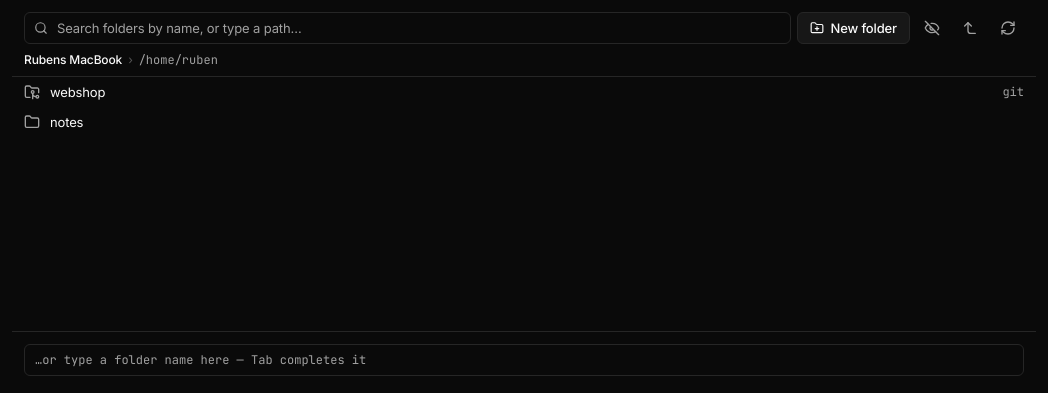
typing a path › completes against the folder on screen, the way cd does
Expected: the text "webshop" is shown, [50,84,105,100]
Type "web" into the field with test id "folder-path-input" at {"x": 524, "y": 360}, box [24,344,1024,376]
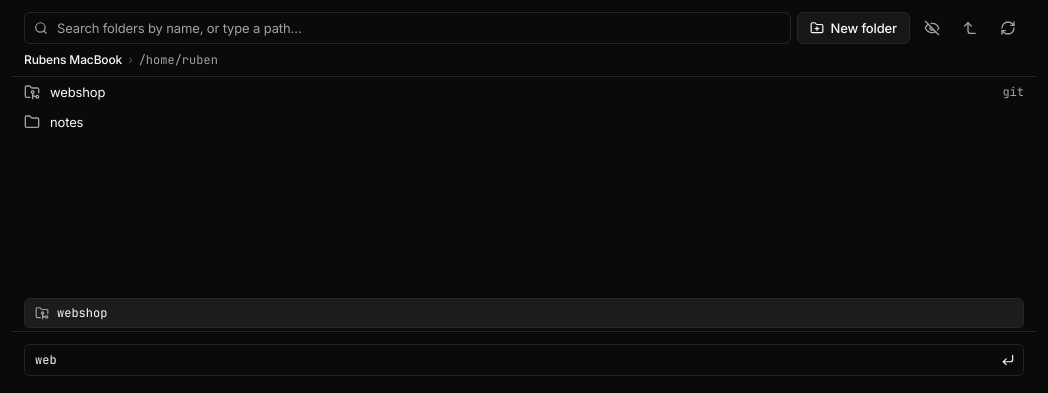
Expected: the element with test id "path-suggestions" does not show "notes"
Result: the list with test id "path-suggestions" reads "webshop" at [25,299,1023,327]
